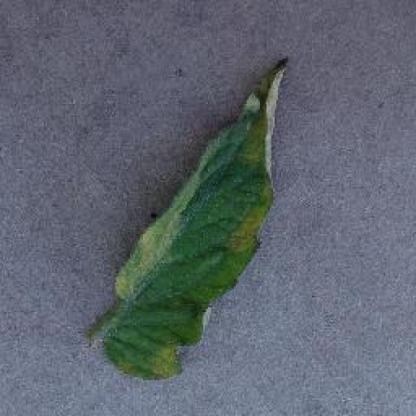Tomato_Leaf_Mold: (105, 58, 288, 379)
